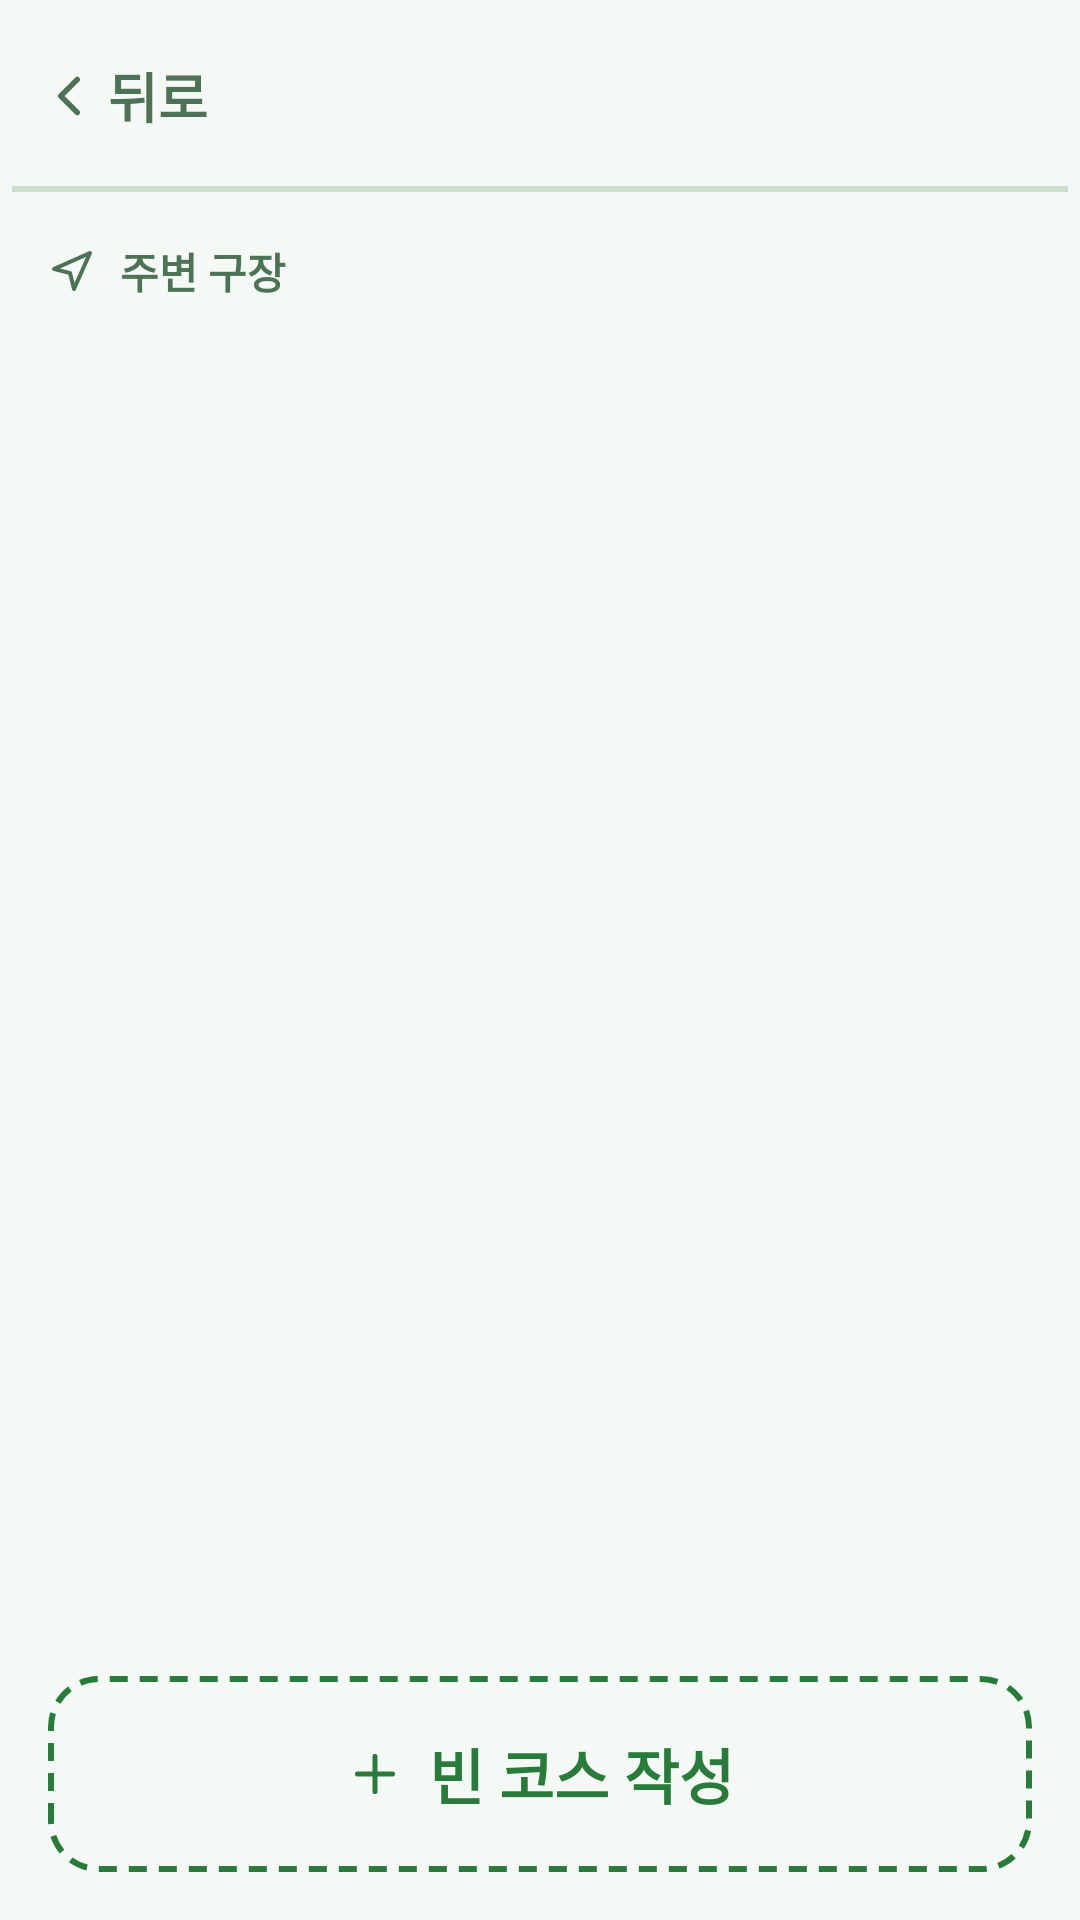

Named icons in this screenshot (1080x1920) and their centers, point (x, y):
chevron left: point (69, 96)
navigation: point (72, 271)
plus: point (375, 1774)
